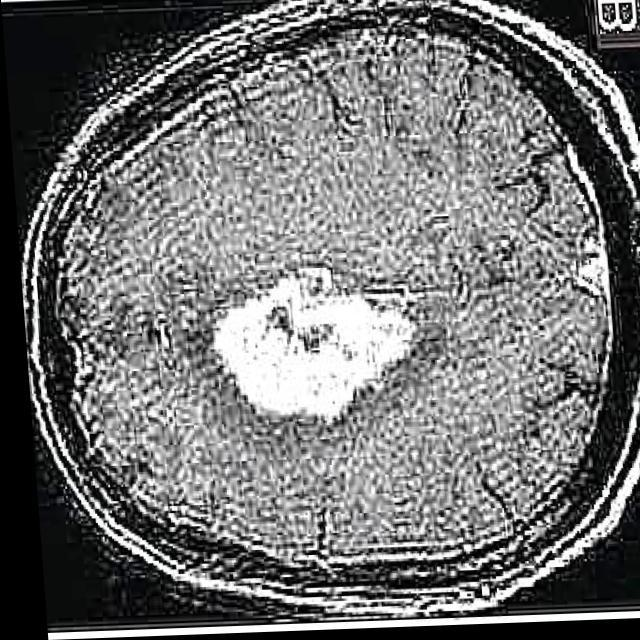Tumor: (211, 278, 413, 423)
